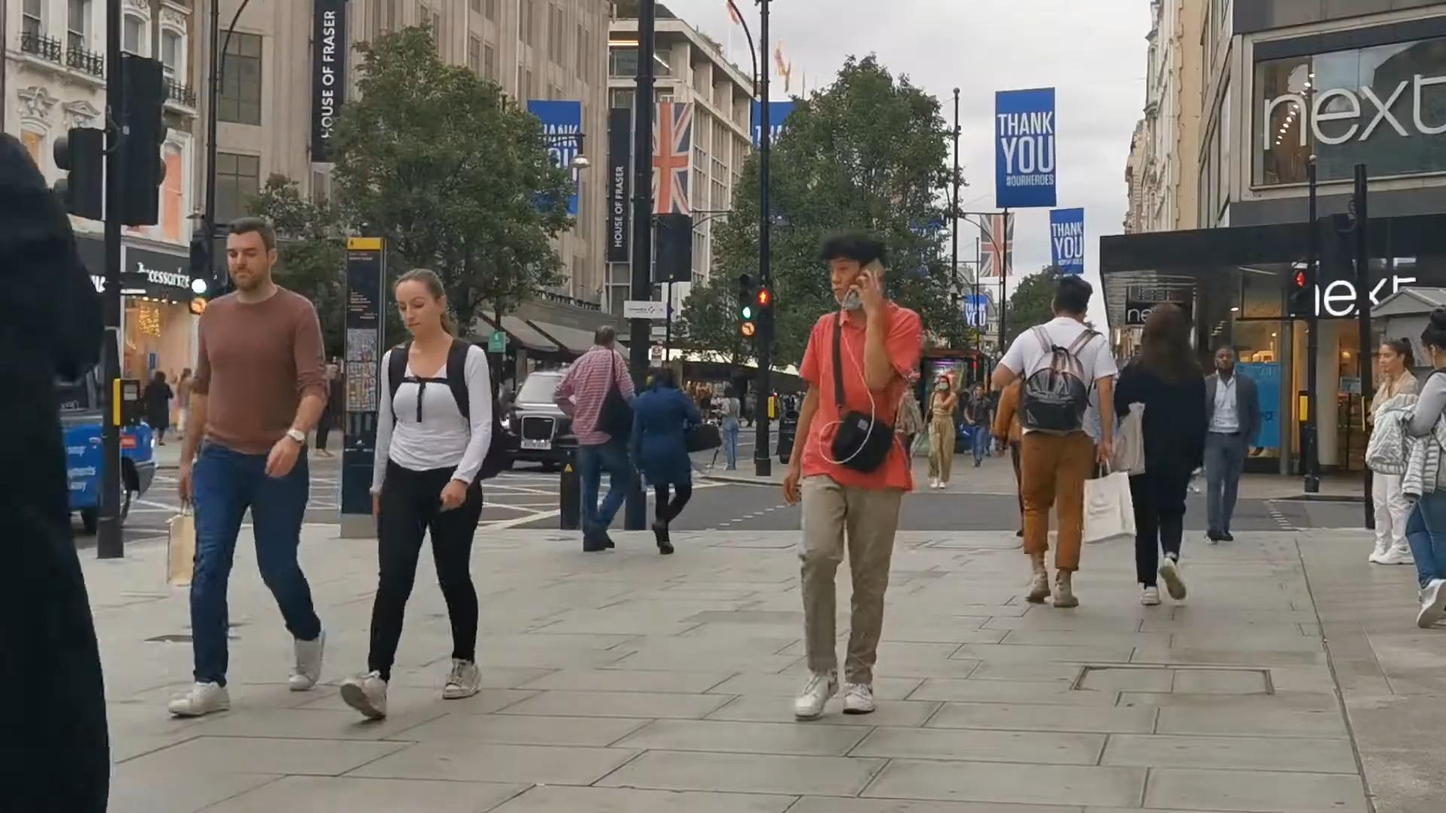no-helmet: (816, 229, 886, 312), (226, 217, 278, 291), (392, 267, 446, 336), (1141, 303, 1192, 360), (1051, 273, 1092, 324), (1421, 308, 1446, 371), (1379, 337, 1416, 373), (650, 366, 678, 392), (1214, 343, 1236, 373), (595, 325, 614, 350), (938, 375, 950, 391)
